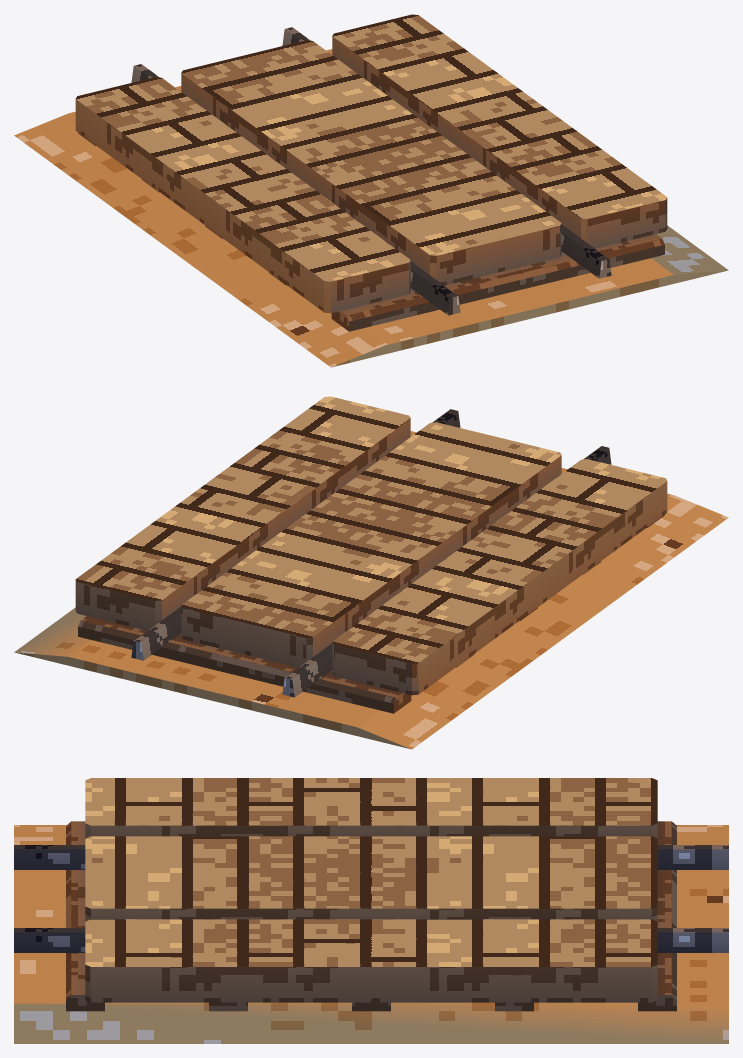
Rendered from wrail.track__crossing.glb.
The picture shows the model from 3 angles, top to bottom: view 1: azimuth 30°, elevation 25°; view 2: azimuth 150°, elevation 25°; view 3: azimuth 270°, elevation 25°; orthographic projection. The views are drawn at different scales.
Visible parts, largest first — view 1: kit_planks, kit_ballast, kit_ties, kit_rails; view 2: kit_planks, kit_ballast, kit_ties, kit_rails; view 3: kit_planks, kit_ballast, kit_rails, kit_ties.
Part boxes in pixels (x1,y1,x2,y2): kit_planks: (75,14,667,313); kit_ballast: (14,49,728,367); kit_ties: (78,132,664,331); kit_rails: (131,27,611,315); kit_planks: (75,396,667,695); kit_ballast: (14,431,728,749); kit_ties: (78,514,664,713); kit_rails: (131,409,611,697); kit_planks: (85,778,657,1002); kit_ballast: (14,825,728,1043); kit_rails: (14,845,728,952); kit_ties: (66,821,676,1011).
Size of the model in its own units: 2.9 by 0.382 by 4.
Materials: 4 (4 with a texture image).
